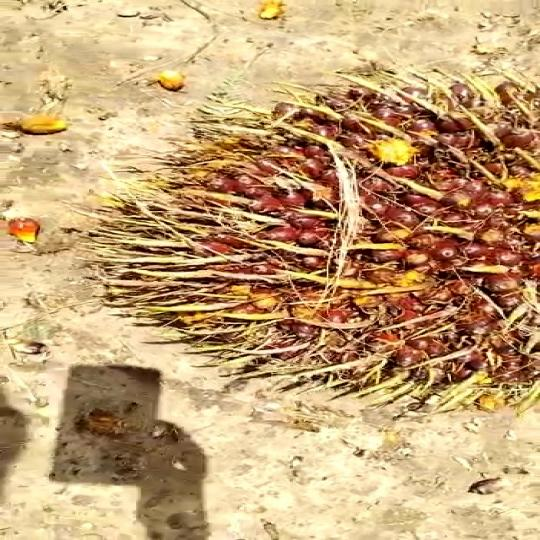masak: (99, 61, 540, 438)
